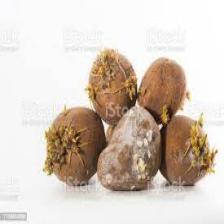Sprouted potato: (29, 96, 112, 192), (91, 96, 163, 200), (148, 102, 218, 193), (77, 32, 139, 131), (131, 51, 190, 133)
